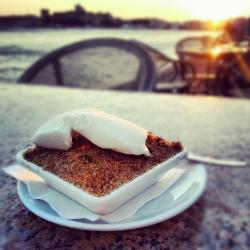apple_pie: (18, 122, 191, 202)
chantilly: (27, 103, 156, 163)
